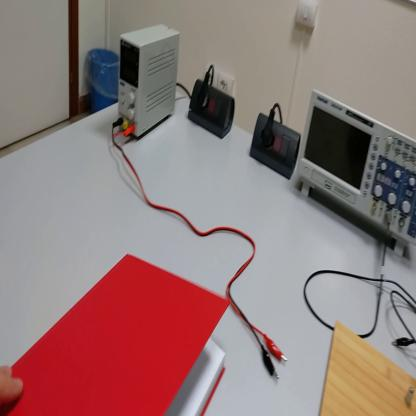hand: (1, 361, 25, 411)
oscilloscope: (300, 83, 416, 259)
power supply: (116, 16, 182, 143)
register: (2, 256, 229, 416)
socket: (251, 108, 301, 186), (190, 77, 237, 141)
working area: (317, 321, 416, 415)
